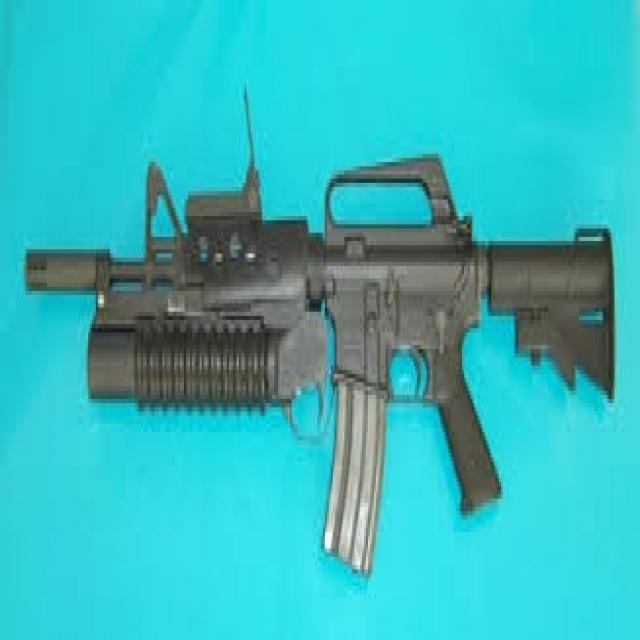weapon: (18, 148, 625, 586)
